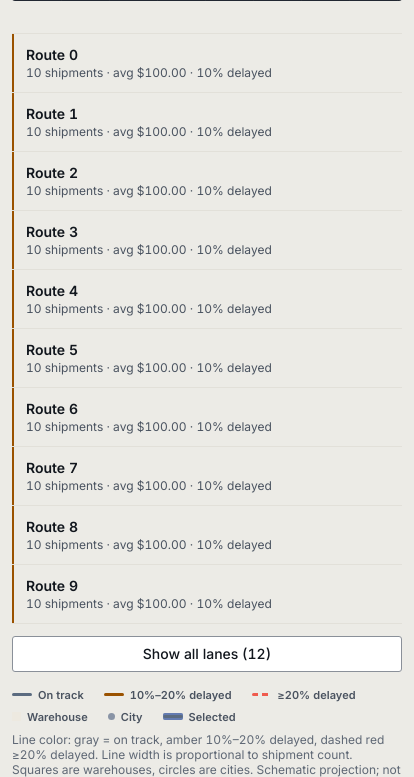
Test: RouteMap › marks lanes past the first ten for phones and offers Show all lanes, which reveals them
(page scrolled)
Click the button "Show all lanes (12)".
click(207, 654)  # box [12,636,402,672]
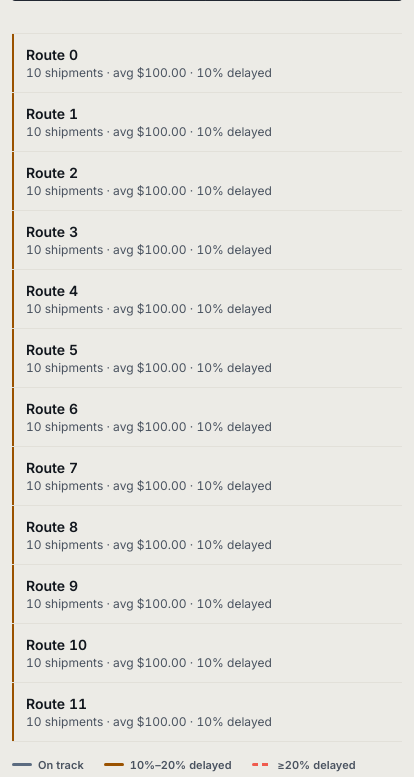
Check: the button "Show all lanes" is gone
